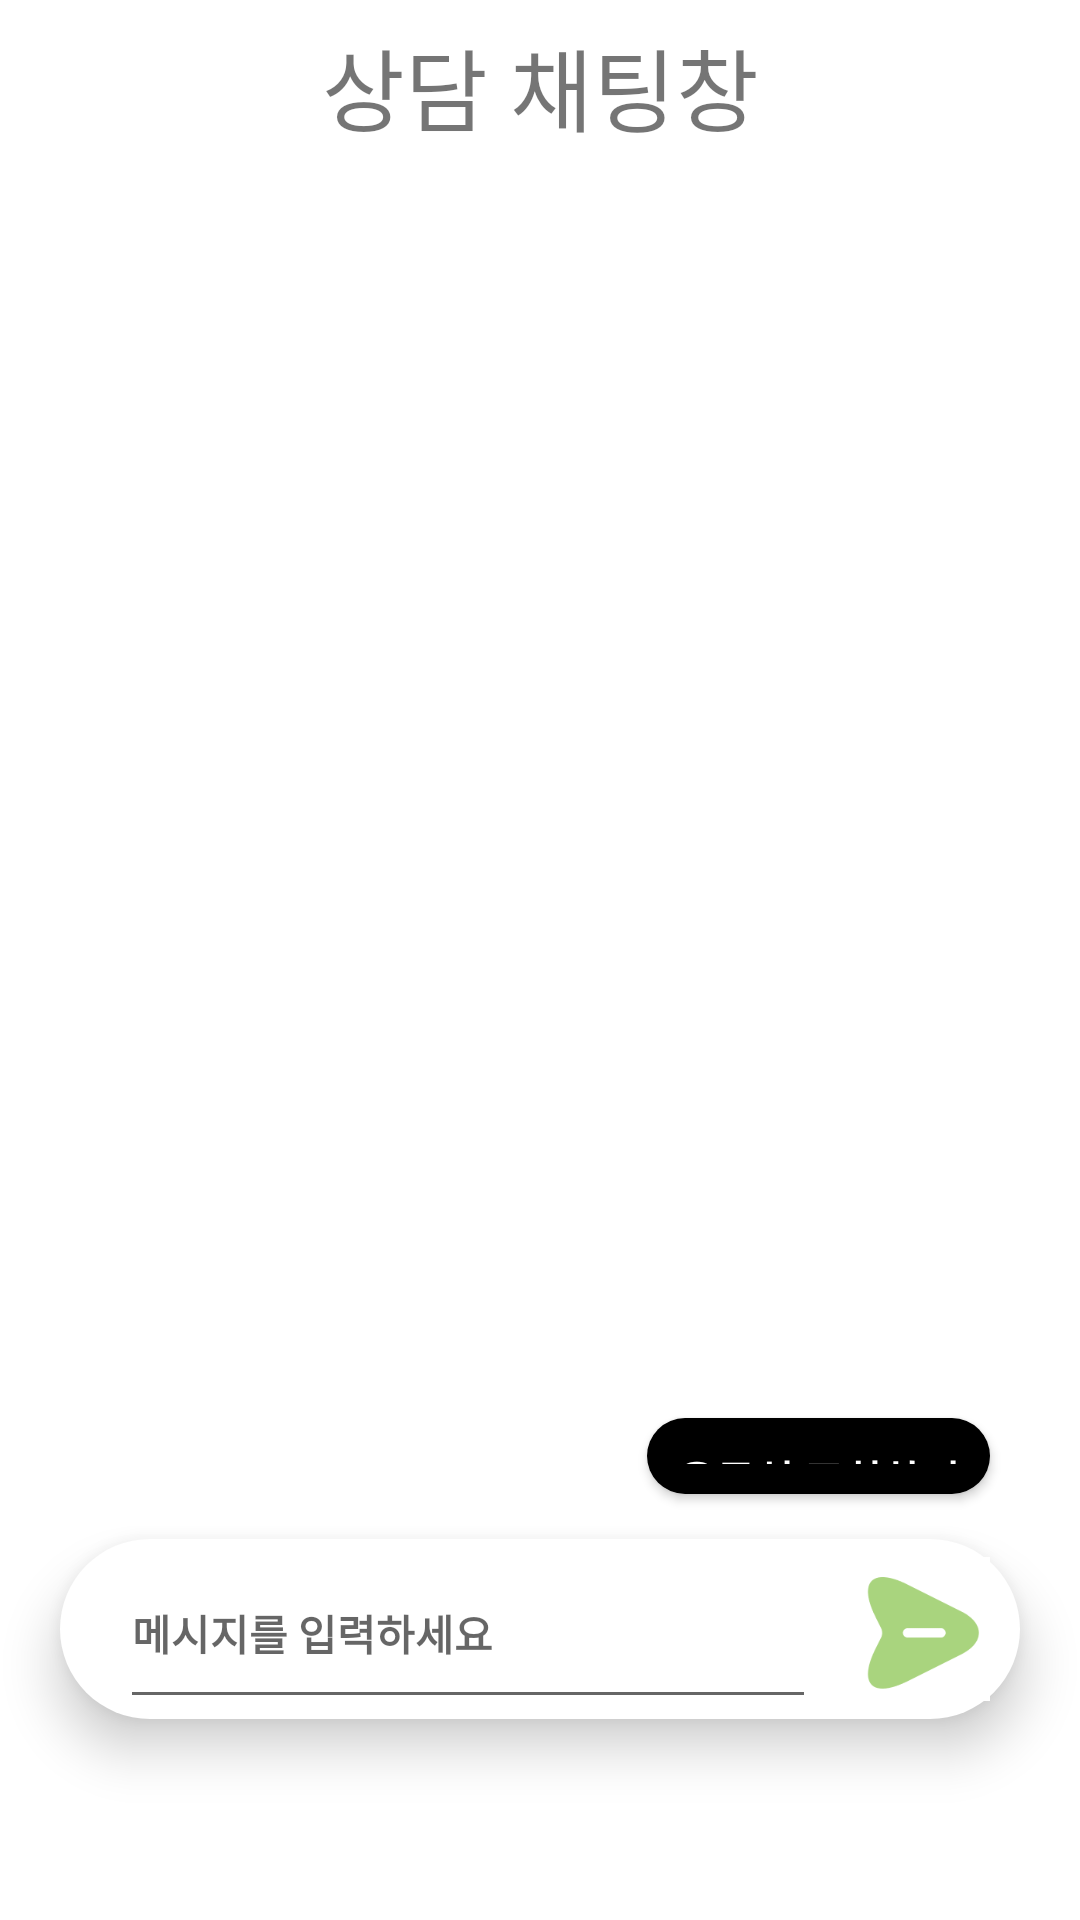

Screen size 1080x1920. Icon name, then its box in pixels as (x1, y1, x2, y2):
send: (868, 1577, 979, 1689)
